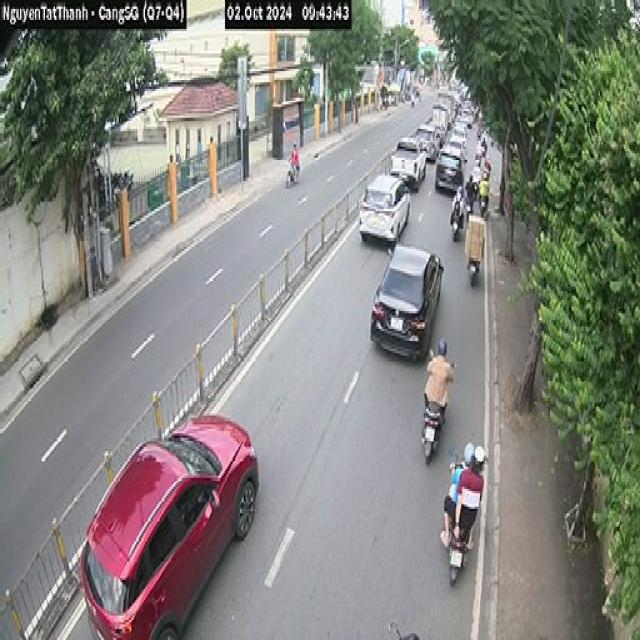car: (80, 413, 259, 638), (370, 242, 444, 362), (358, 171, 410, 242)
motorcycle: (285, 158, 299, 186)
person: (424, 336, 454, 422), (289, 142, 300, 178)
